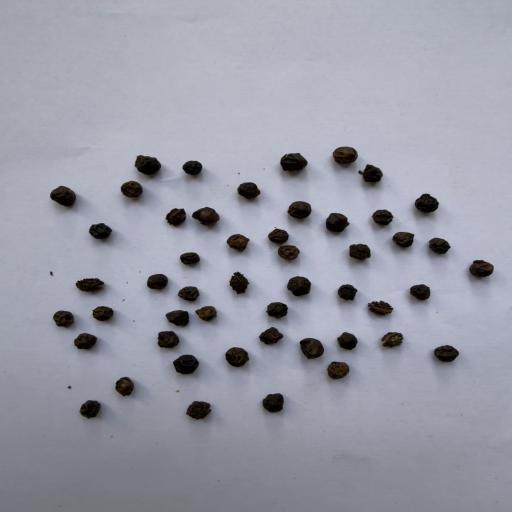Black_pepper: (275, 148, 315, 174), (131, 152, 166, 178), (48, 182, 78, 209), (224, 343, 252, 371), (181, 400, 216, 422), (280, 276, 318, 296), (178, 154, 210, 177), (110, 373, 136, 400), (298, 336, 326, 361), (467, 255, 496, 279), (260, 392, 291, 414), (172, 350, 196, 378), (284, 199, 314, 221), (86, 220, 116, 242), (159, 307, 190, 328), (224, 233, 258, 252), (190, 208, 222, 228), (323, 211, 352, 233), (432, 342, 461, 364), (155, 328, 184, 350), (177, 247, 204, 270), (344, 242, 375, 262), (177, 281, 208, 301), (47, 305, 75, 327), (323, 360, 351, 382), (330, 142, 359, 163), (413, 191, 442, 212), (234, 180, 264, 200), (78, 399, 104, 422), (261, 225, 294, 243), (360, 163, 389, 183), (73, 334, 105, 352), (262, 300, 292, 319), (195, 306, 226, 324), (370, 207, 397, 227), (260, 327, 287, 347), (274, 244, 302, 263), (404, 283, 432, 302), (330, 284, 359, 302), (332, 331, 358, 351), (142, 272, 170, 290), (90, 306, 118, 324), (429, 236, 451, 258), (392, 229, 416, 248), (122, 180, 144, 200)
papaya_seed: (67, 274, 113, 298), (226, 269, 254, 297), (374, 327, 407, 349), (365, 297, 398, 318), (164, 205, 189, 232)
